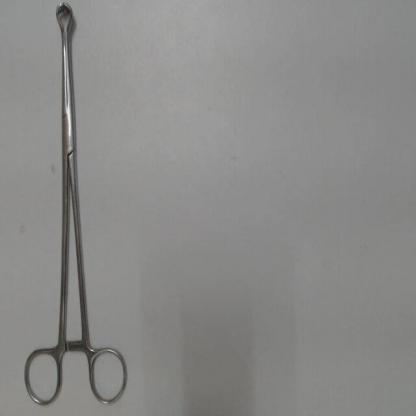8 Babcock Tissue Forceps: (18, 4, 132, 412)
